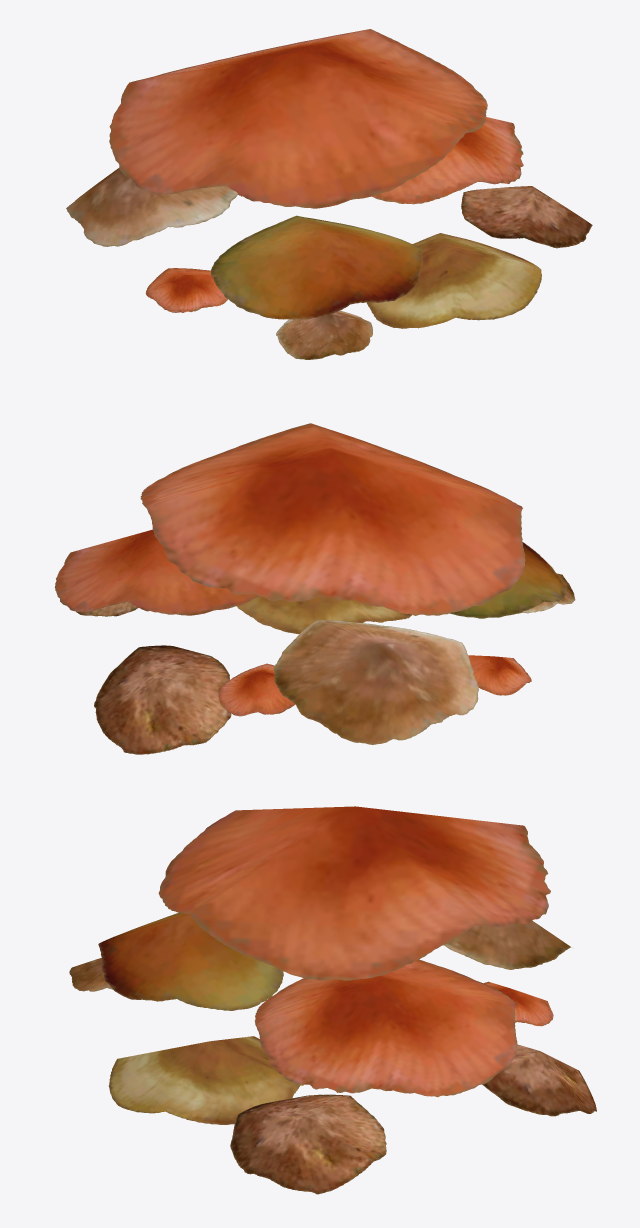
The model's file is fngi_mushroom_clump_l1.fbx.
The picture shows the model from 3 angles, top to bottom: view 1: azimuth 30°, elevation 25°; view 2: azimuth 150°, elevation 25°; view 3: azimuth 270°, elevation 25°; orthographic projection. The views are drawn at different scales.
Parts seen in each view (by area): view 1: mesh_node; view 2: mesh_node; view 3: mesh_node.
Boxes of the visible parts, x1=… form: mesh_node: x1=66, y1=29, x2=592, y2=359; mesh_node: x1=54, y1=423, x2=575, y2=754; mesh_node: x1=69, y1=806, x2=596, y2=1194.
Size of the model in its own units: 0.8186 by 0.3741 by 0.7917.
